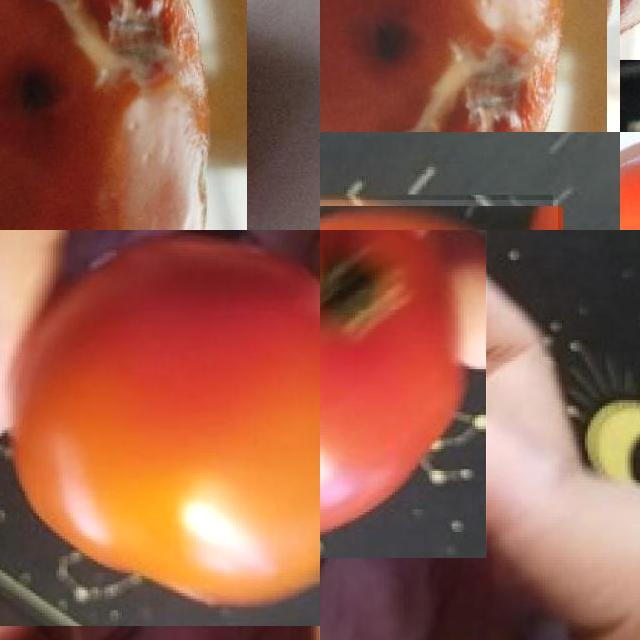1: (0, 0, 247, 230), (320, 0, 620, 132)
Fresh Tomato: (0, 230, 320, 626), (320, 230, 487, 558)
